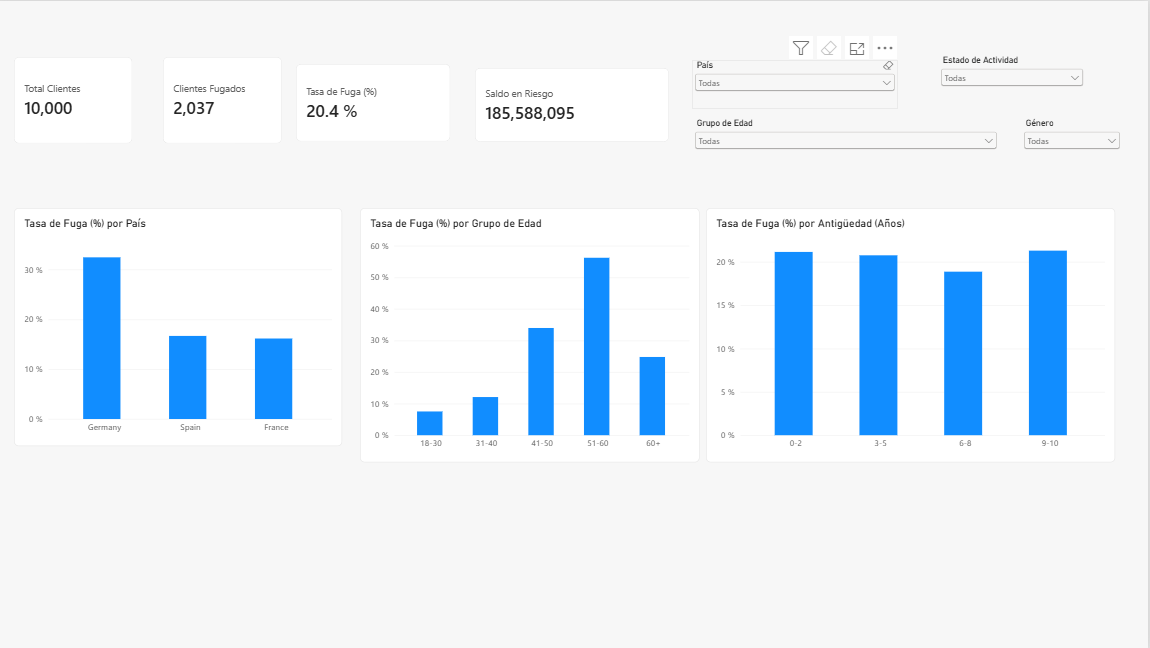

The dashboard page shown, as its layout file describes it:
{"tool":"powerbi","page":{"name":"Resumen Ejecutivo - Churn Bancario","canvas":[1920,1080],"ordinal":0},"visuals":[{"type":"cardVisual","fields":{"Data":["_Medidas.Total Clientes"]},"box":[29.6,93.5,197.9,144.9],"z":0},{"type":"cardVisual","fields":{"Data":["_Medidas.Clientes Fugados"]},"box":[278.6,92.9,198.6,144.3],"z":1000},{"type":"cardVisual","fields":{"Data":["_Medidas.Churn Rate %"]},"box":[538.6,108.6,257.1,129.4],"z":2000},{"type":"cardVisual","fields":{"Data":["_Medidas.Saldo en Riesgo"]},"box":[771.2,107.9,280.5,121.6],"z":3000},{"type":"clusteredColumnChart","title":"Tasa de Fuga (%) por País","fields":{"Category":["Dim_Geografia.geography"],"Y":["_Medidas.Churn Rate %"]},"box":[30.1,344.3,547.4,396.7],"z":4000},{"type":"clusteredColumnChart","title":"Tasa de Fuga (%) por Grupo de Edad","fields":{"Category":["Dim_Cliente.age_group"],"Y":["_Medidas.Churn Rate %"]},"box":[606.1,344.3,566.5,423.7],"z":5000},{"type":"clusteredColumnChart","title":"Tasa de Fuga (%) por Antigüedad (Años)","fields":{"Category":["Fact_Churn.tenure_group"],"Y":["_Medidas.Churn Rate %"]},"box":[1196.4,344.3,682.3,423.7],"z":6000},{"type":"slicer","fields":{"Values":["Dim_Geografia.geography"]},"box":[1160,98.3,342.9,81],"z":7000},{"type":"slicer","fields":{"Values":["Dim_Cliente.gender"]},"box":[1708.3,195,169.9,60.2],"z":8000},{"type":"slicer","fields":{"Values":["Dim_Cliente.age_group"]},"box":[1160,195,512.8,68],"z":9000},{"type":"slicer","fields":{"Values":["Dim_Producto.actividad_label"]},"box":[1570,90,246.7,80],"z":10000}]}

Visuals, with their boxes in screenshot pixels (x1, y1, x2, y2), scaled from the page's 1920x1080 canvas onto the 1150x648 screenshot:
cardVisual - _Medidas.Total Clientes: (left=18, top=56, right=136, bottom=143)
cardVisual - _Medidas.Clientes Fugados: (left=167, top=56, right=286, bottom=142)
cardVisual - _Medidas.Churn Rate %: (left=323, top=65, right=477, bottom=143)
cardVisual - _Medidas.Saldo en Riesgo: (left=462, top=65, right=630, bottom=138)
"Tasa de Fuga (%) por País" clusteredColumnChart: (left=18, top=207, right=346, bottom=445)
"Tasa de Fuga (%) por Grupo de Edad" clusteredColumnChart: (left=363, top=207, right=702, bottom=461)
"Tasa de Fuga (%) por Antigüedad (Años)" clusteredColumnChart: (left=717, top=207, right=1125, bottom=461)
slicer - Dim_Geografia.geography: (left=695, top=59, right=900, bottom=108)
slicer - Dim_Cliente.gender: (left=1023, top=117, right=1125, bottom=153)
slicer - Dim_Cliente.age_group: (left=695, top=117, right=1002, bottom=158)
slicer - Dim_Producto.actividad_label: (left=940, top=54, right=1088, bottom=102)
